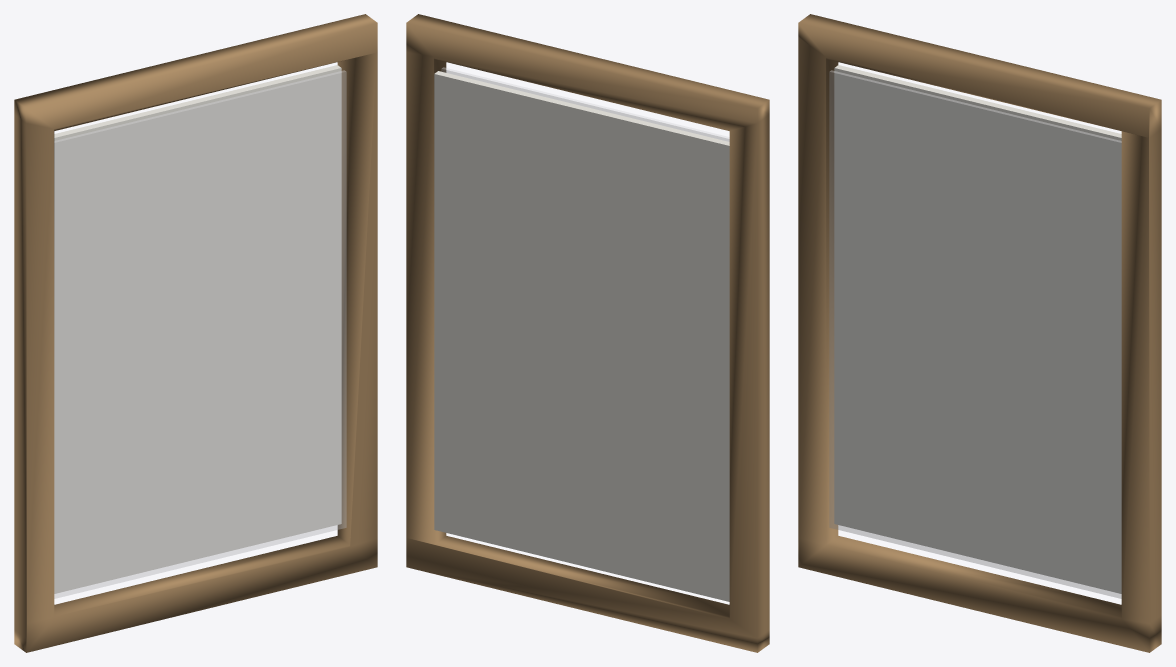
File: picture_frame.glb
3 views of the same model, side by side, from view 1: azimuth 30°, elevation 25°; view 2: azimuth 150°, elevation 25°; view 3: azimuth 330°, elevation 25° (orthographic).
Parts seen in each view (by area): view 1: glass, picture, merged_frame_wood; view 2: picture, merged_frame_wood, glass; view 3: glass, picture, merged_frame_wood.
Part boxes in pixels (x1=…): glass: x1=54, y1=70, x2=346, y2=598; picture: x1=54, y1=65, x2=341, y2=593; merged_frame_wood: x1=14, y1=14, x2=377, y2=652; picture: x1=434, y1=71, x2=729, y2=601; merged_frame_wood: x1=406, y1=14, x2=769, y2=652; glass: x1=441, y1=67, x2=729, y2=141; glass: x1=829, y1=70, x2=1121, y2=598; picture: x1=834, y1=65, x2=1121, y2=593; merged_frame_wood: x1=798, y1=14, x2=1161, y2=652.
Size of the model in its own units: 0.5 by 0.74 by 0.03.
